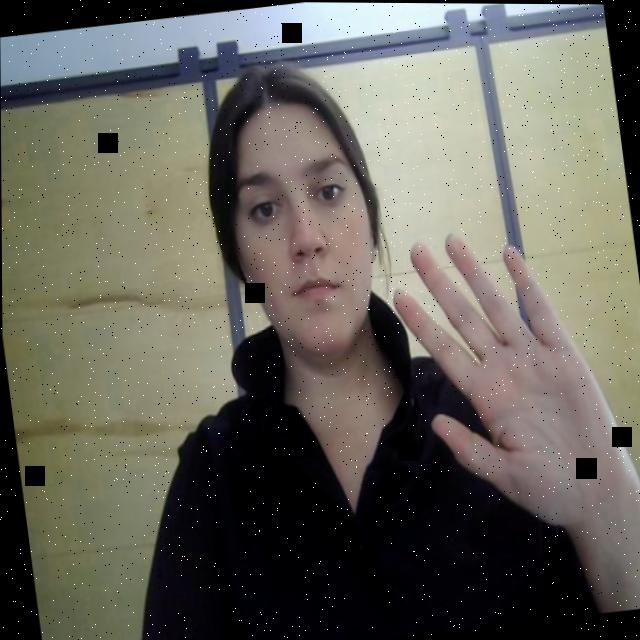Paper: (378, 184, 640, 557)
